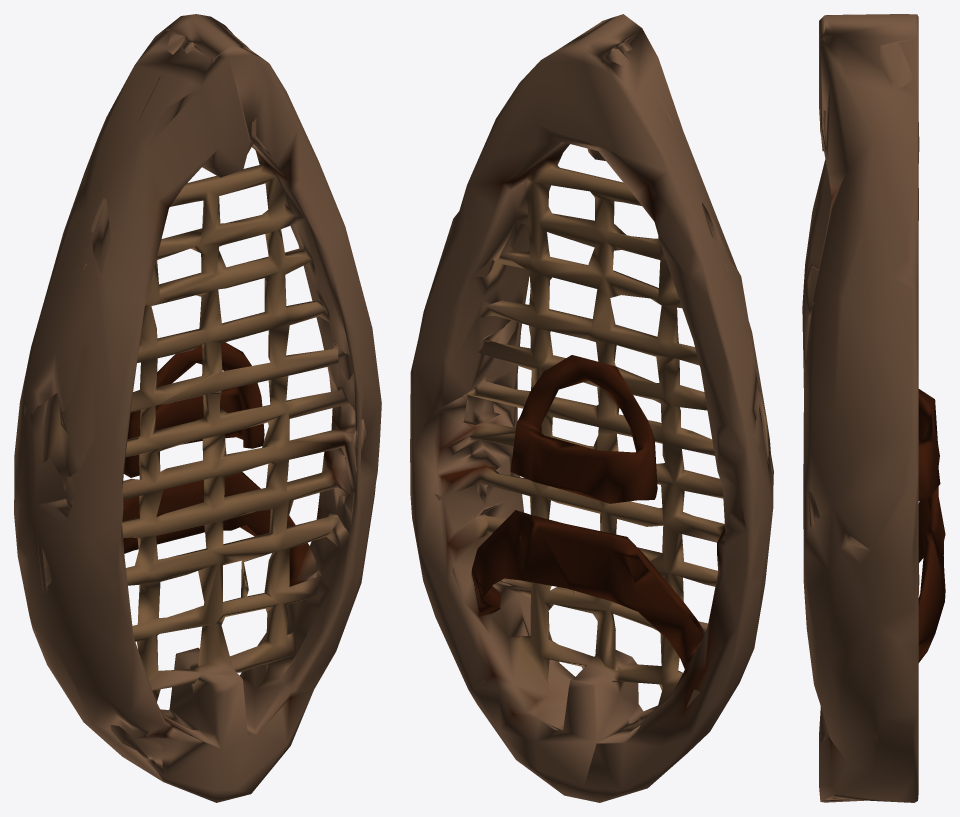
Rendered from gen3d-snowshoe-lod0.glb.
The picture shows the model from 3 angles, left to right: view 1: azimuth 30°, elevation 25°; view 2: azimuth 150°, elevation 25°; view 3: azimuth 270°, elevation 25°; orthographic projection. The views are drawn at different scales.
Visible parts, largest first — view 1: part_0; view 2: part_0; view 3: part_0.
Part boxes in pixels (left/top/right/bottom): part_0: left=14, top=14, right=381, bottom=802; part_0: left=410, top=14, right=773, bottom=802; part_0: left=802, top=14, right=945, bottom=802.
Bounding box in the file's own units: 0.4817 × 1 × 0.1666.
